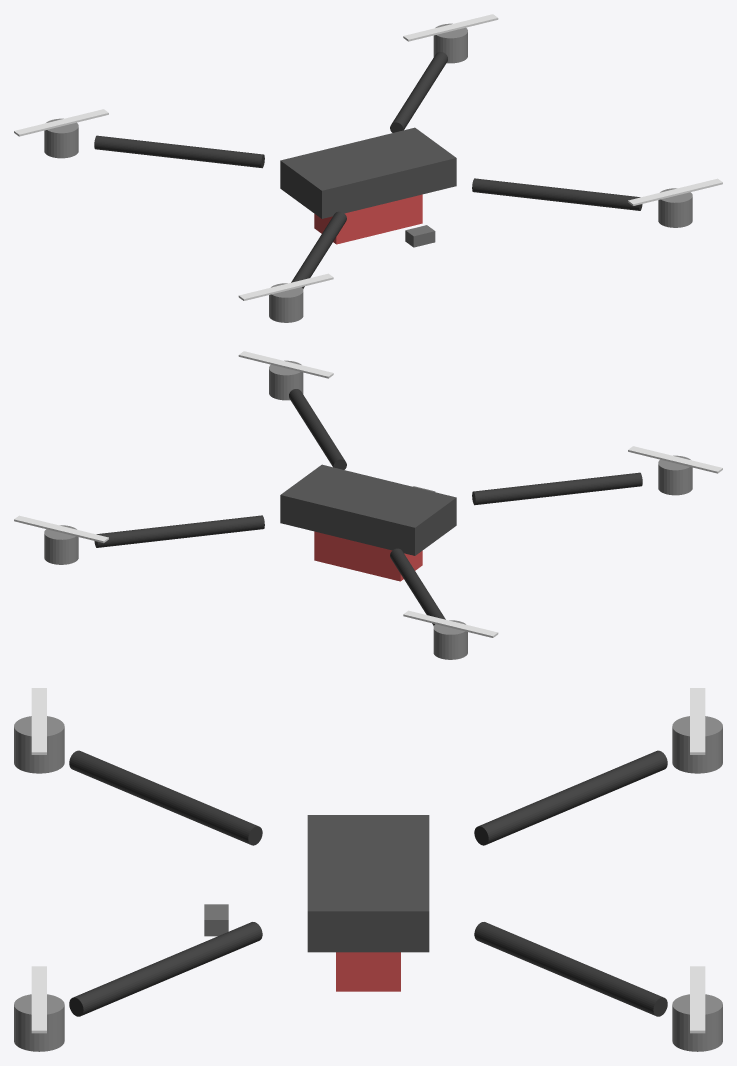
The model's file is model_456a6acd-6eb0-468a-8432-200646243c9c.glb.
3 views of the same model, one above another, from view 1: azimuth 30°, elevation 25°; view 2: azimuth 150°, elevation 25°; view 3: azimuth 270°, elevation 25° (orthographic). The views are drawn at different scales.
Parts seen in each view (by area): view 1: DroneBody, Battery, Arm_2, Arm_4, Arm_1, Arm_3, Motor_2, Motor_3, Motor_4, Motor_1, Propeller_1, Propeller_2 (+3 smaller); view 2: DroneBody, Battery, Arm_3, Arm_1, Arm_4, Arm_2, Motor_3, Motor_2, Motor_1, Motor_4, Propeller_4, Propeller_2 (+2 smaller); view 3: DroneBody, Arm_2, Arm_3, Arm_1, Arm_4, Battery, Motor_1, Motor_4, Motor_2, Motor_3, Propeller_1, Propeller_4 (+3 smaller).
Part boxes in pixels (x1,y1,x2,y2): DroneBody: [280, 127, 456, 218]; Battery: [314, 194, 422, 244]; Arm_2: [94, 135, 264, 168]; Arm_4: [472, 178, 642, 210]; Arm_1: [390, 52, 447, 132]; Arm_3: [291, 211, 346, 288]; Motor_2: [44, 118, 78, 158]; Motor_3: [269, 283, 303, 322]; Motor_4: [658, 188, 692, 227]; Motor_1: [433, 23, 467, 63]; Propeller_1: [403, 14, 498, 41]; Propeller_2: [14, 109, 108, 136]; DroneBody: [280, 464, 456, 555]; Battery: [314, 531, 422, 581]; Arm_3: [472, 472, 642, 505]; Arm_1: [94, 515, 264, 547]; Arm_4: [289, 389, 346, 469]; Arm_2: [390, 548, 445, 625]; Motor_3: [658, 455, 692, 495]; Motor_2: [433, 620, 467, 659]; Motor_1: [44, 525, 78, 564]; Motor_4: [269, 360, 303, 400]; Propeller_4: [238, 351, 333, 378]; Propeller_2: [403, 610, 498, 637]; DroneBody: [307, 815, 429, 952]; Arm_2: [474, 750, 667, 845]; Arm_3: [69, 750, 262, 845]; Arm_1: [474, 922, 667, 1016]; Arm_4: [69, 922, 262, 1016]; Battery: [336, 952, 400, 991]; Motor_1: [672, 994, 722, 1051]; Motor_4: [14, 994, 64, 1051]; Motor_2: [672, 716, 722, 773]; Motor_3: [14, 716, 64, 773]; Propeller_1: [690, 966, 705, 1033]; Propeller_4: [31, 966, 46, 1033].
Bounding box in the file's own units: 0.8 × 0.1105 × 0.7.
